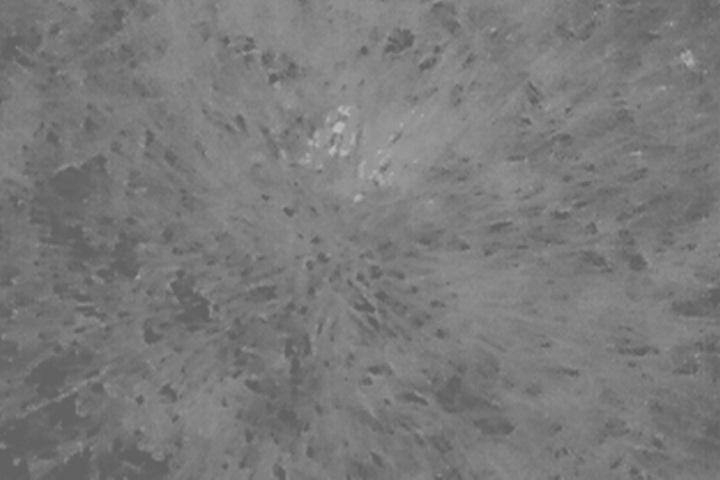landmine: (300, 104, 409, 200)
